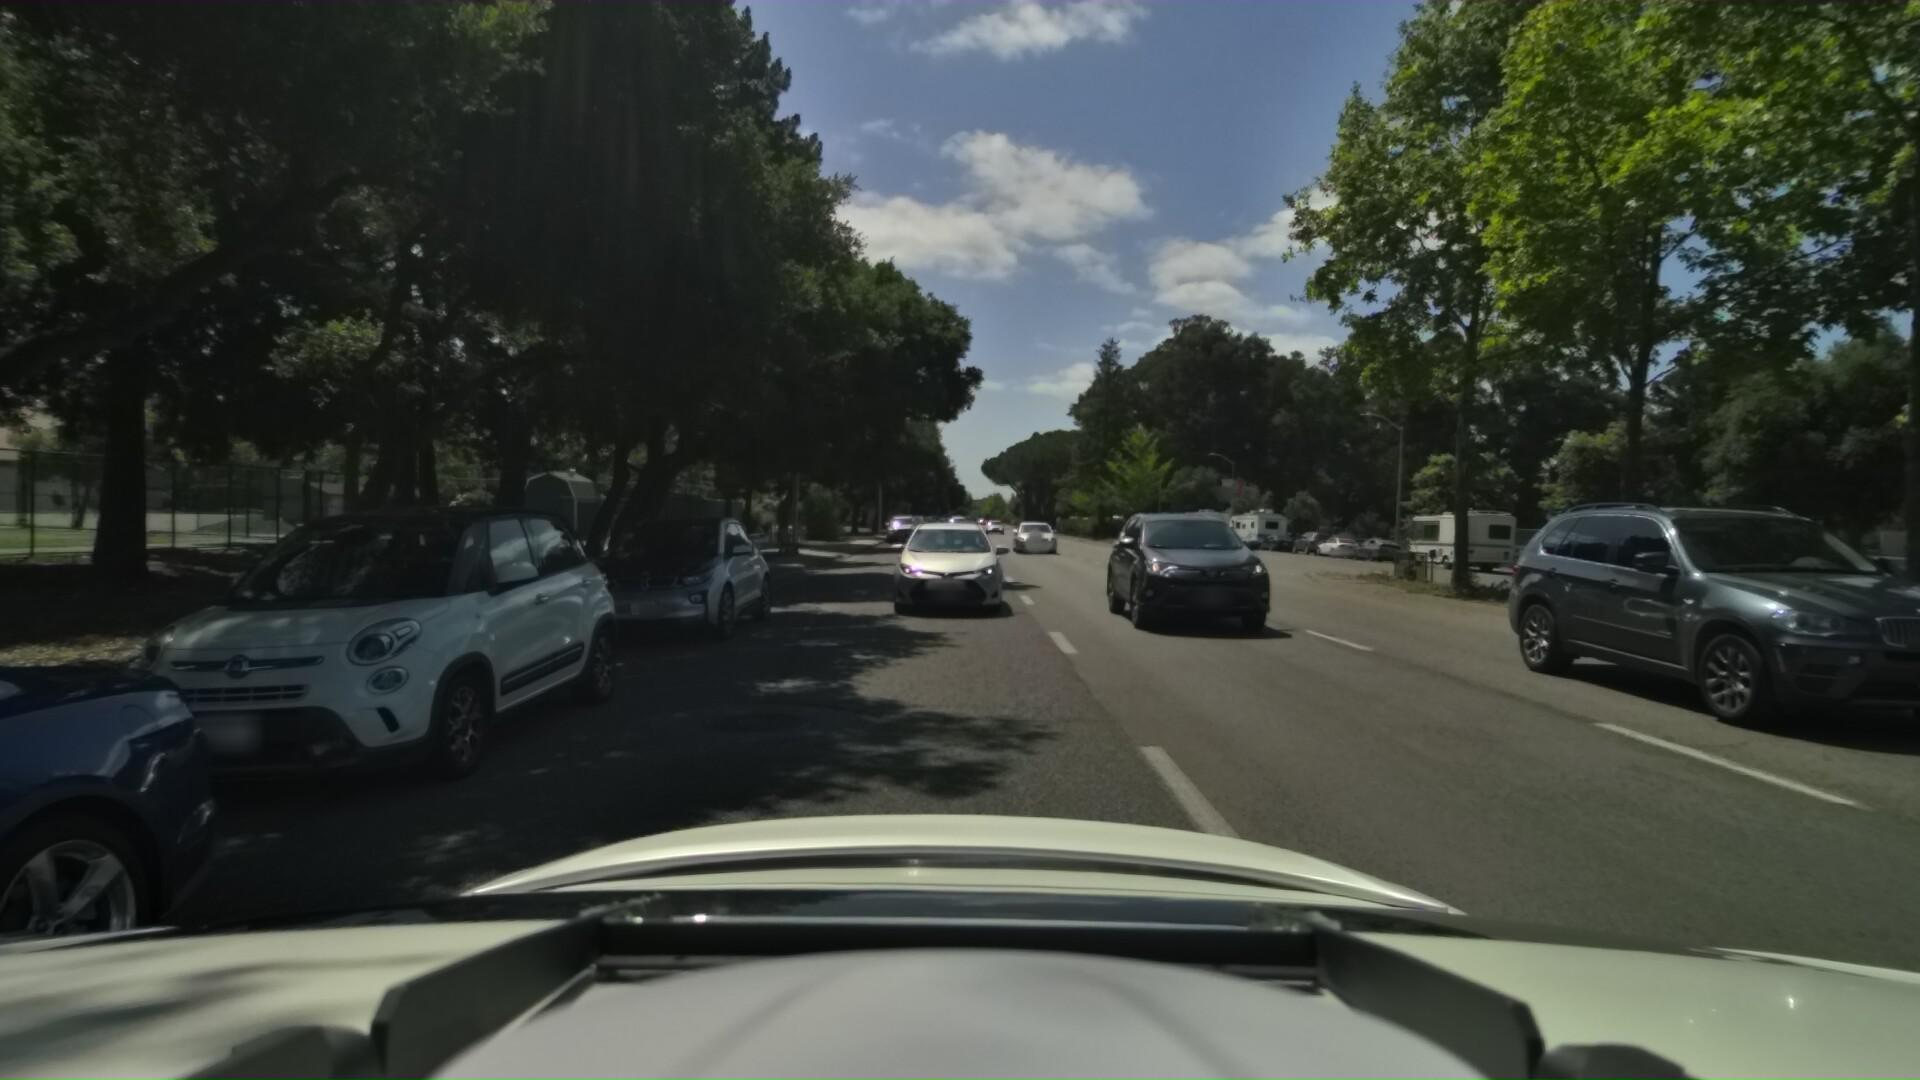car: (119, 471, 663, 816), (1431, 488, 1920, 725), (588, 506, 789, 650), (1720, 537, 1920, 659), (1089, 502, 1251, 622), (881, 512, 1005, 618), (1007, 513, 1054, 553), (1341, 530, 1400, 559), (1307, 527, 1360, 555), (1284, 525, 1331, 553), (884, 508, 922, 541), (1253, 527, 1294, 549)
other_vehicle: (1393, 500, 1514, 571)
